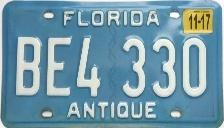0: (181, 35, 208, 99)
3: (120, 34, 149, 99), (150, 36, 179, 99)
4: (75, 35, 104, 98)
B: (14, 35, 43, 97)
E: (46, 35, 75, 98)
